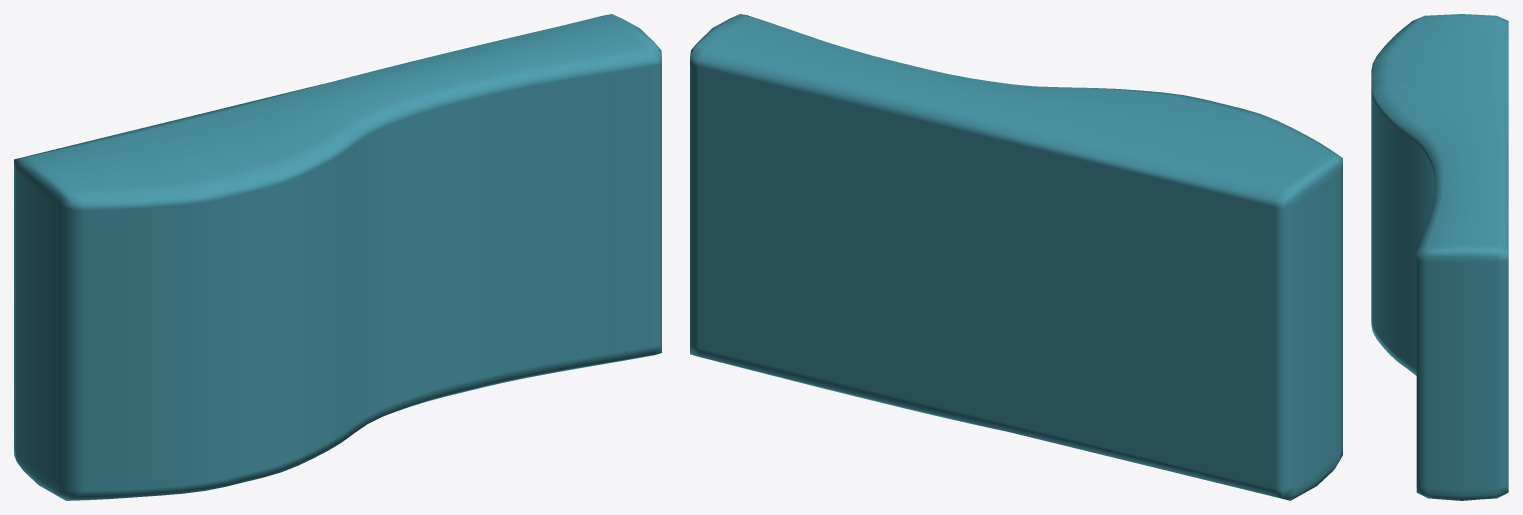
Rendered from Wall+Sand2.fbx.
The picture shows the model from 3 angles, left to right: view 1: azimuth 30°, elevation 25°; view 2: azimuth 150°, elevation 25°; view 3: azimuth 270°, elevation 25°; orthographic projection. The views are drawn at different scales.
Parts seen in each view (by area): view 1: Tank0; view 2: Tank0; view 3: Tank0.
Boxes of the visible parts, box(x1,y1,x2,y2) form: Tank0: box(14, 14, 661, 500); Tank0: box(690, 14, 1342, 500); Tank0: box(1371, 14, 1508, 500).
Size of the model in its own units: 1283 by 637 by 312.
